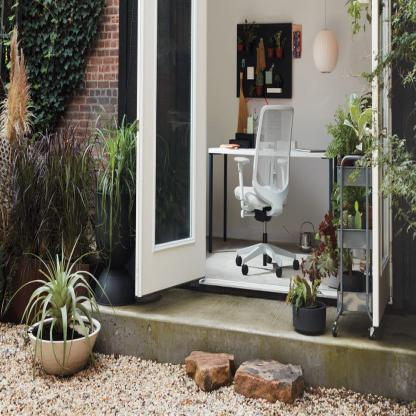chair: (229, 104, 302, 285)
door: (134, 0, 208, 298), (369, 4, 397, 330)
light: (305, 0, 343, 82)
table: (208, 143, 341, 258)
